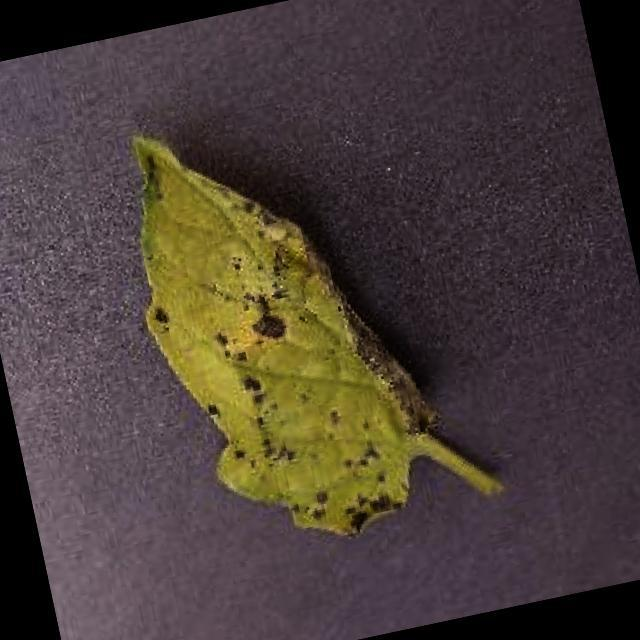Tomato Septoria spot leaf: (108, 88, 453, 569)
